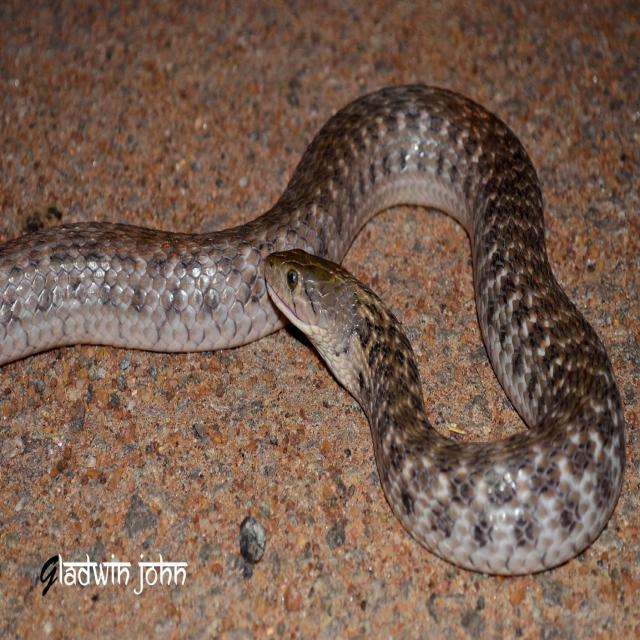Snake: (1, 81, 626, 576)
